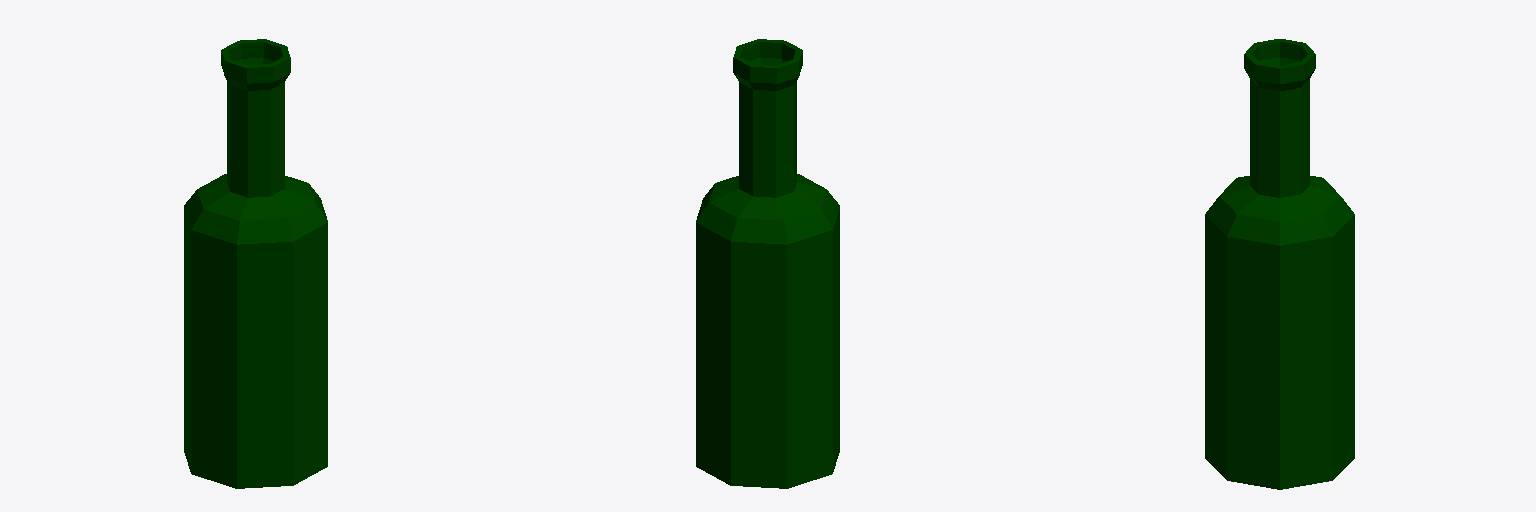
Rendered from Bottle.obj.
3 renders of one model, left to right at view 1: azimuth 30°, elevation 25°; view 2: azimuth 150°, elevation 25°; view 3: azimuth 270°, elevation 25°, orthographic.
Parts seen in each view (by area): view 1: Bottle; view 2: Bottle; view 3: Bottle.
Part boxes in pixels (bbox=[...]): Bottle: bbox=[184, 39, 327, 488]; Bottle: bbox=[696, 39, 839, 488]; Bottle: bbox=[1205, 39, 1354, 489].
Bounding box in the file's own units: 1 × 2.98 × 1.